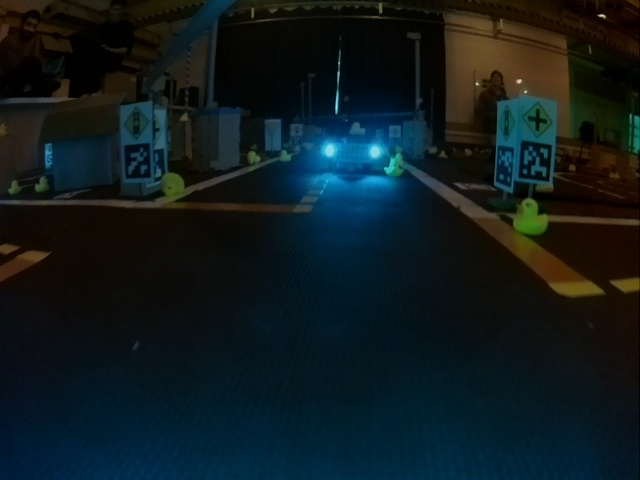Duckie: (512, 198, 550, 234), (161, 173, 184, 196), (385, 160, 403, 174), (35, 177, 48, 192), (350, 122, 365, 134), (247, 151, 257, 161), (281, 151, 290, 159)
Duckiebot: (323, 135, 381, 171)
Intersection sign: (522, 100, 553, 137)
QR code: (517, 141, 551, 182), (123, 143, 151, 180), (495, 145, 514, 191)
Signal sign: (123, 105, 149, 139), (497, 105, 514, 141)
